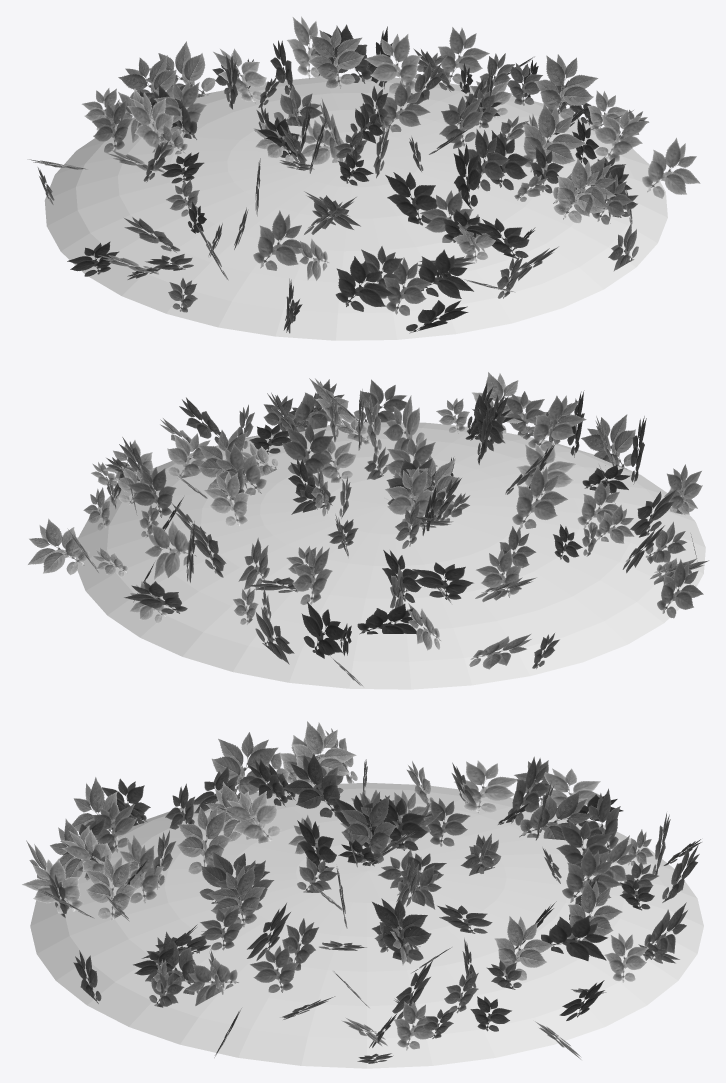
Rendered from FoliageSlab.fbx.
3 renders of one model, top to bottom at view 1: azimuth 30°, elevation 25°; view 2: azimuth 150°, elevation 25°; view 3: azimuth 270°, elevation 25°, orthographic. The views are drawn at different scales.
Visible parts, largest first — view 1: Sphere.003; view 2: Sphere.003; view 3: Sphere.003.
Part boxes in pixels (box(x1,y1,x2,y2)): Sphere.003: box(27, 16, 700, 340); Sphere.003: box(28, 372, 709, 689); Sphere.003: box(22, 721, 703, 1068).
Bounding box in the file's own units: 230 × 44.1 × 216.
